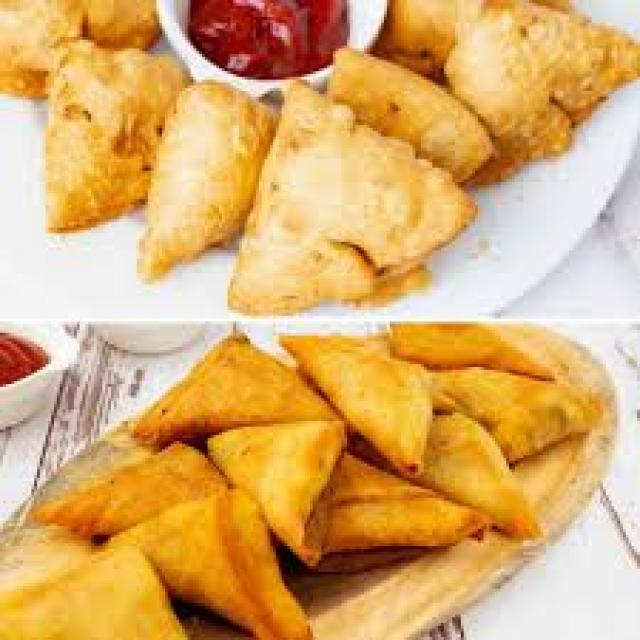SAMOSA: (228, 85, 472, 313), (441, 0, 637, 179), (137, 82, 273, 279), (46, 40, 188, 228), (131, 492, 307, 637), (134, 336, 338, 444), (327, 48, 489, 179), (208, 424, 338, 560), (0, 543, 185, 637), (296, 347, 430, 472), (37, 444, 225, 532), (432, 367, 592, 458), (421, 412, 535, 532)
